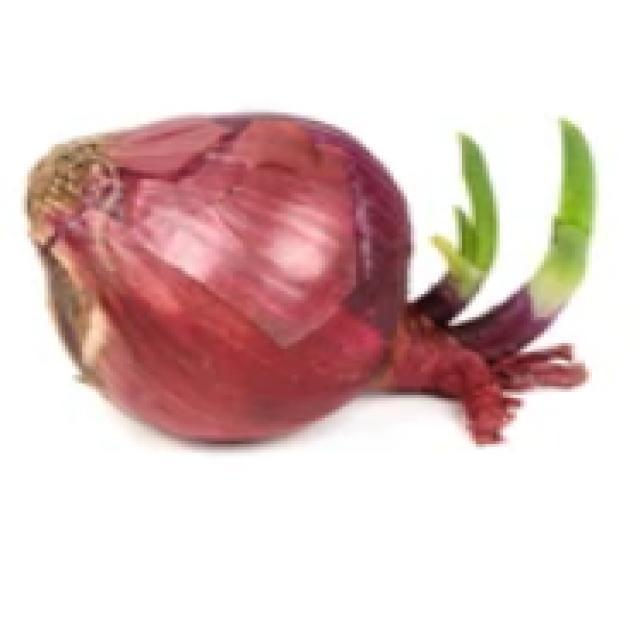sprouting: (409, 101, 619, 476)
